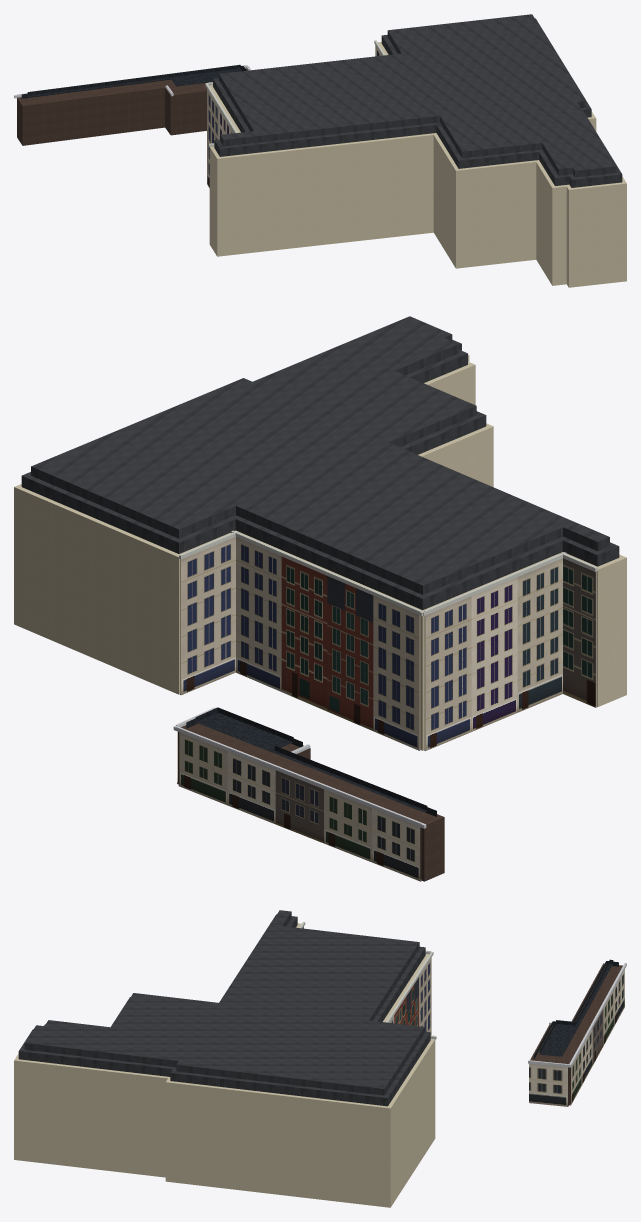
3 renders of one model, top to bottom at view 1: azimuth 30°, elevation 25°; view 2: azimuth 150°, elevation 25°; view 3: azimuth 270°, elevation 25°, orthographic. The views are drawn at different scales.
Parts seen in each view (by area): view 1: bldg_180051338, bldg_180051338_roof_b, bldg_516646839, bldg_180051338_roof_a, bldg_516646839_roof_b, bldg_180051338_facade3; view 2: bldg_180051338_roof_b, bldg_180051338, bldg_180051338_facade2, bldg_180051338_facade3, bldg_516646839_facade2, bldg_180051338_roof_a, bldg_180051338_facade1, bldg_180051338_facade4, bldg_516646839, bldg_516646839_roof_b; view 3: bldg_180051338, bldg_180051338_roof_b, bldg_180051338_roof_a, bldg_516646839_facade2, bldg_180051338_facade2, bldg_516646839_facade1, bldg_516646839, bldg_516646839_roof_b.
Part boxes in pixels (x1,y1,x2,y2): bldg_180051338: [209, 42, 626, 287]; bldg_180051338_roof_b: [219, 14, 616, 177]; bldg_516646839: [17, 68, 247, 145]; bldg_180051338_roof_a: [213, 18, 622, 187]; bldg_516646839_roof_b: [27, 64, 244, 96]; bldg_180051338_facade3: [205, 83, 237, 187]; bldg_180051338_roof_b: [31, 316, 609, 594]; bldg_180051338: [14, 354, 626, 750]; bldg_180051338_facade2: [231, 530, 423, 750]; bldg_180051338_facade3: [423, 552, 566, 750]; bldg_516646839_facade2: [173, 725, 426, 881]; bldg_180051338_roof_a: [21, 339, 619, 610]; bldg_180051338_facade1: [179, 531, 238, 695]; bldg_180051338_facade4: [560, 552, 597, 707]; bldg_516646839: [178, 723, 444, 881]; bldg_516646839_roof_b: [195, 707, 427, 812]; bldg_180051338: [14, 923, 435, 1207]; bldg_180051338_roof_b: [24, 910, 424, 1095]; bldg_180051338_roof_a: [18, 914, 430, 1106]; bldg_516646839_facade2: [568, 963, 626, 1105]; bldg_180051338_facade2: [386, 952, 433, 1035]; bldg_516646839_facade1: [528, 1060, 568, 1106]; bldg_516646839: [530, 963, 622, 1106]; bldg_516646839_roof_b: [539, 959, 613, 1056].
Size of the model in its own units: 69.14 by 18.07 by 87.8.
9 materials, 5 textured.
